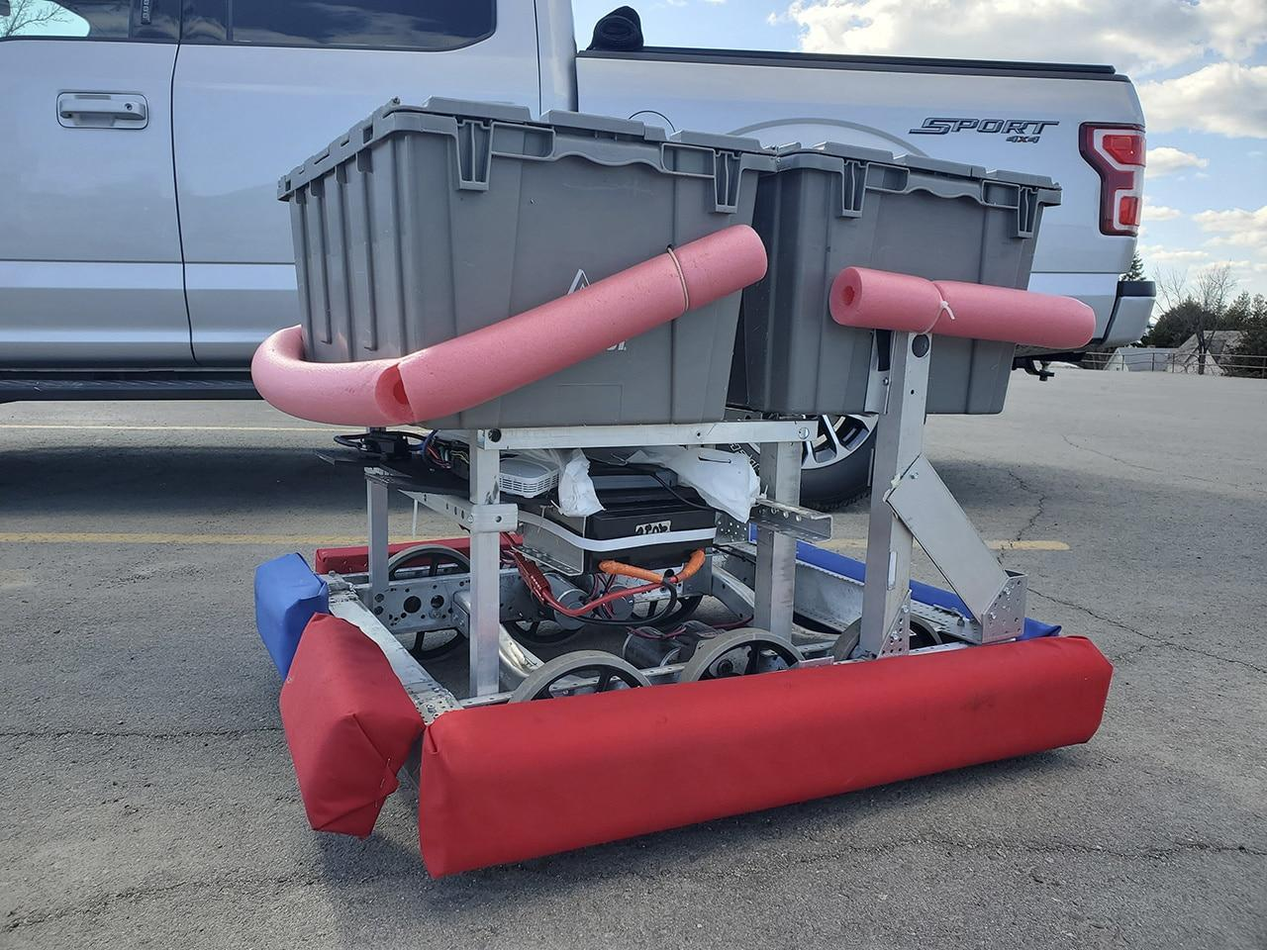robot: (250, 92, 1111, 902)
